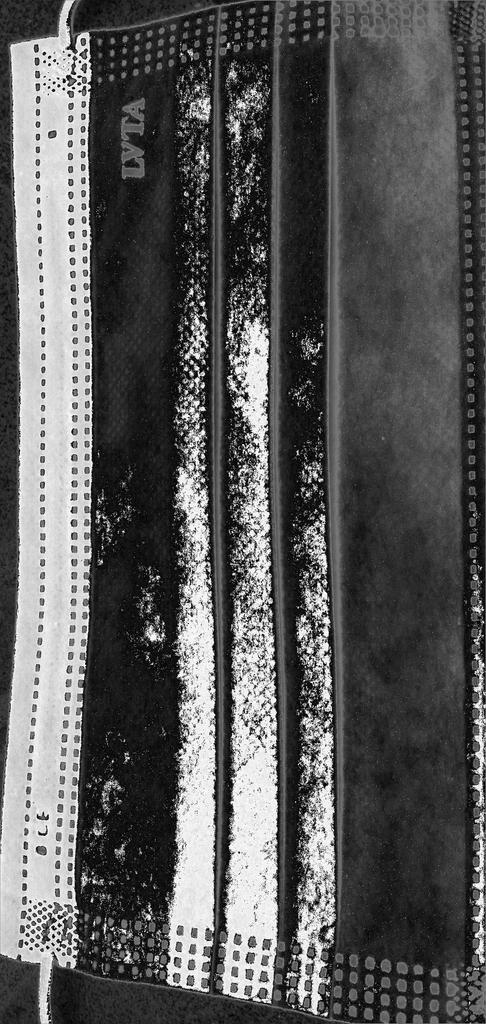High GSM: (92, 36, 460, 964)
